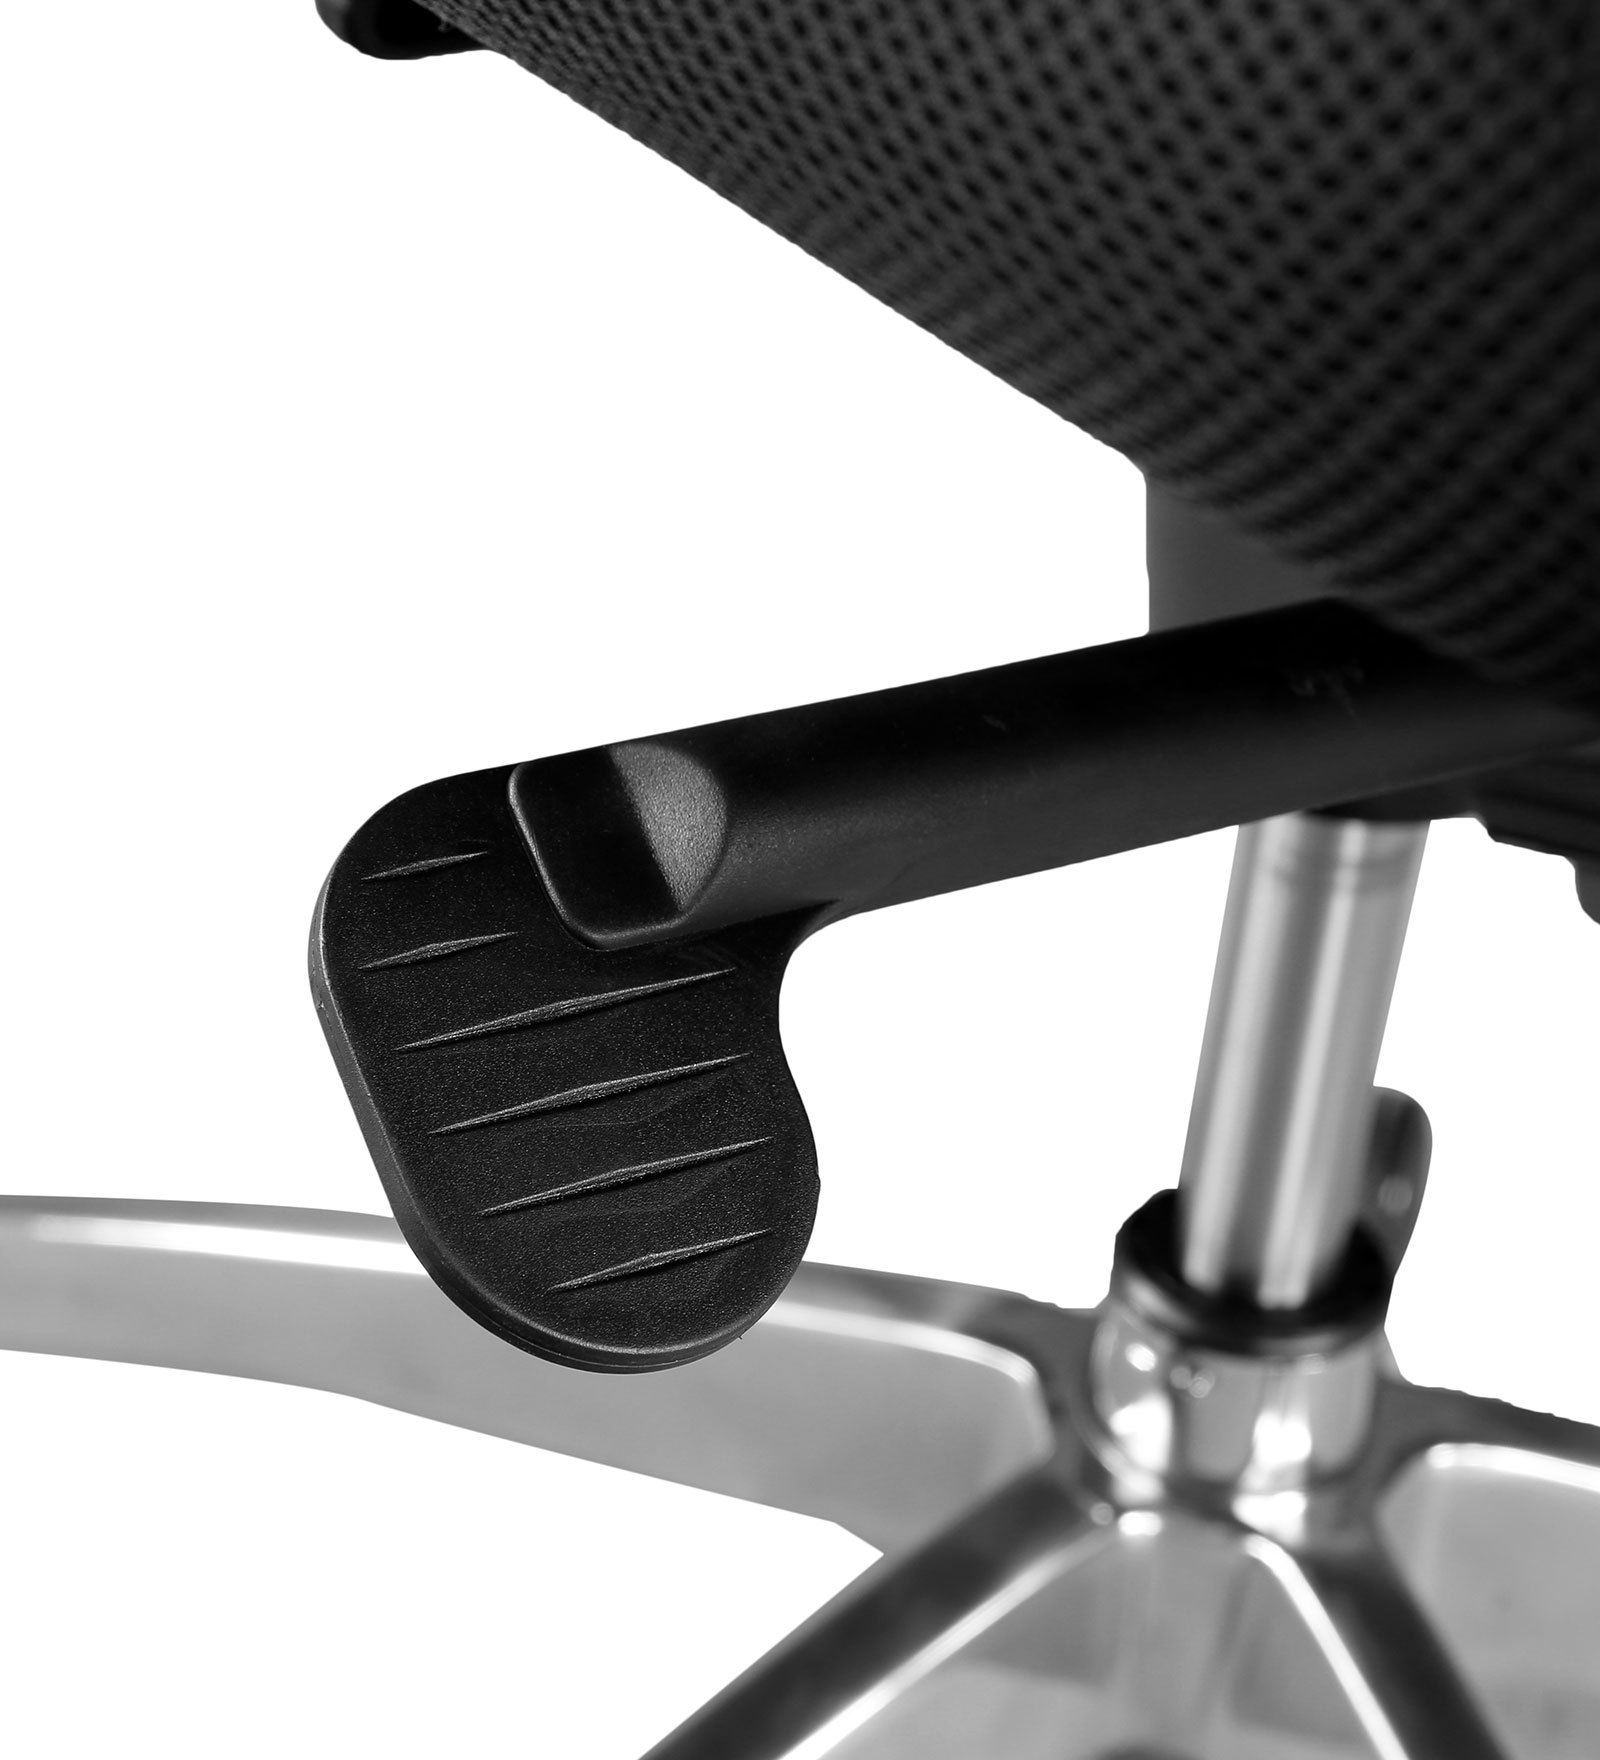Ergo High Back Ergonomic Chair in Black Colour by HomeTown: (5, 8, 1595, 1760)
